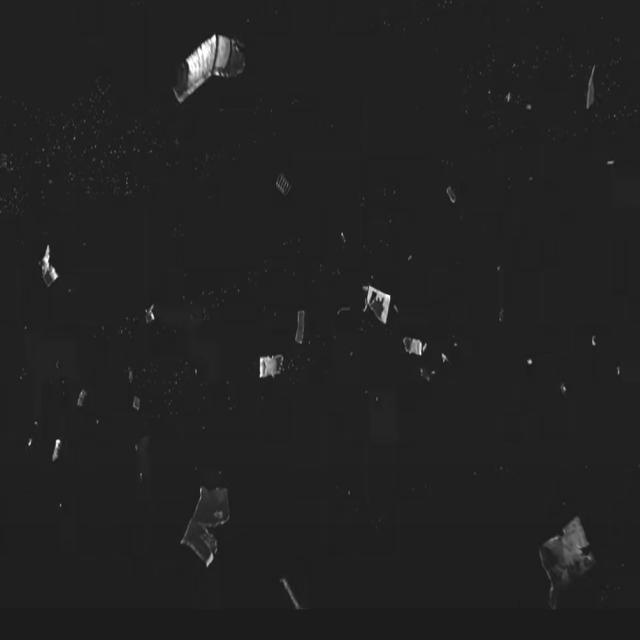large_debris: (529, 501, 612, 622), (156, 19, 256, 110), (177, 468, 235, 586), (353, 270, 395, 342), (29, 235, 63, 299), (252, 341, 290, 391), (398, 325, 430, 371), (44, 420, 67, 474), (290, 303, 312, 355), (140, 300, 164, 332), (273, 166, 291, 202)
